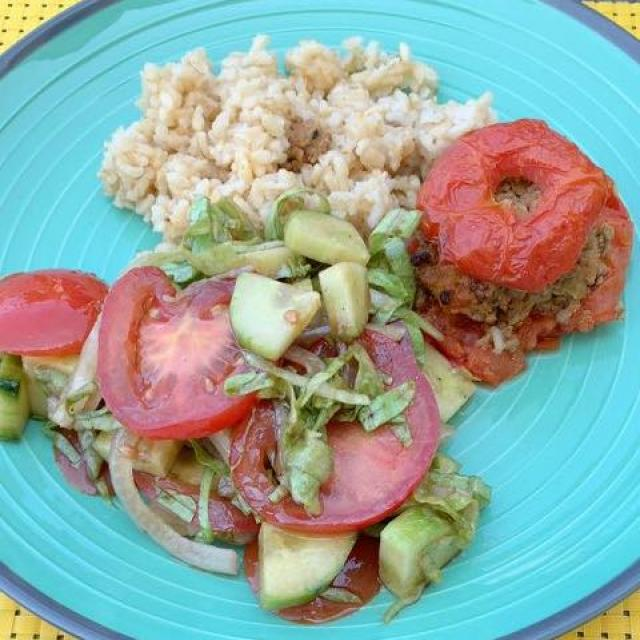beef-minced-only-meat: (415, 221, 623, 342)
mixed-salad-chopped-without-sauce: (4, 198, 489, 625)
oil-vinegar-salad-dressing: (9, 197, 486, 628)
rice-whole-grain: (97, 55, 487, 222)
tomato-raw: (418, 108, 636, 391)
